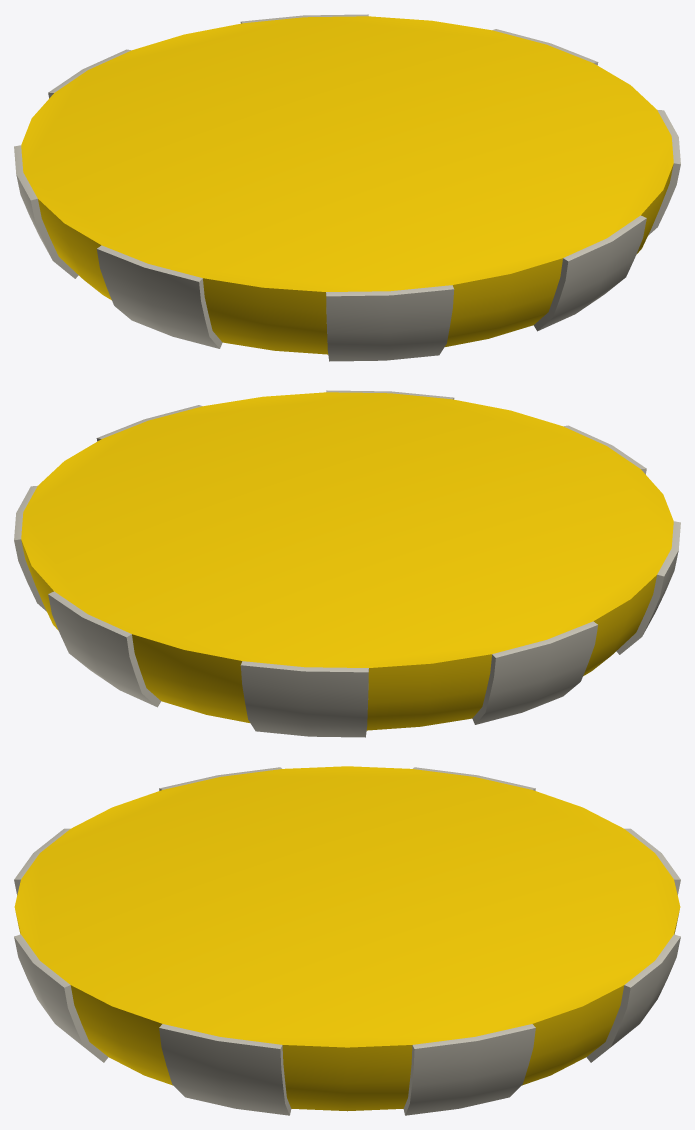
File: Middle5.glb
3 views of the same model, one above another, from view 1: azimuth 30°, elevation 25°; view 2: azimuth 150°, elevation 25°; view 3: azimuth 270°, elevation 25° (orthographic).
Parts seen in each view (by area): view 1: middle; view 2: middle; view 3: middle.
Boxes of the visible parts, x1=… form: middle: x1=14, y1=14, x2=680, y2=361; middle: x1=14, y1=390, x2=680, y2=737; middle: x1=14, y1=766, x2=680, y2=1115.
Size of the model in its own units: 0.2919 by 0.0423 by 0.2919.
